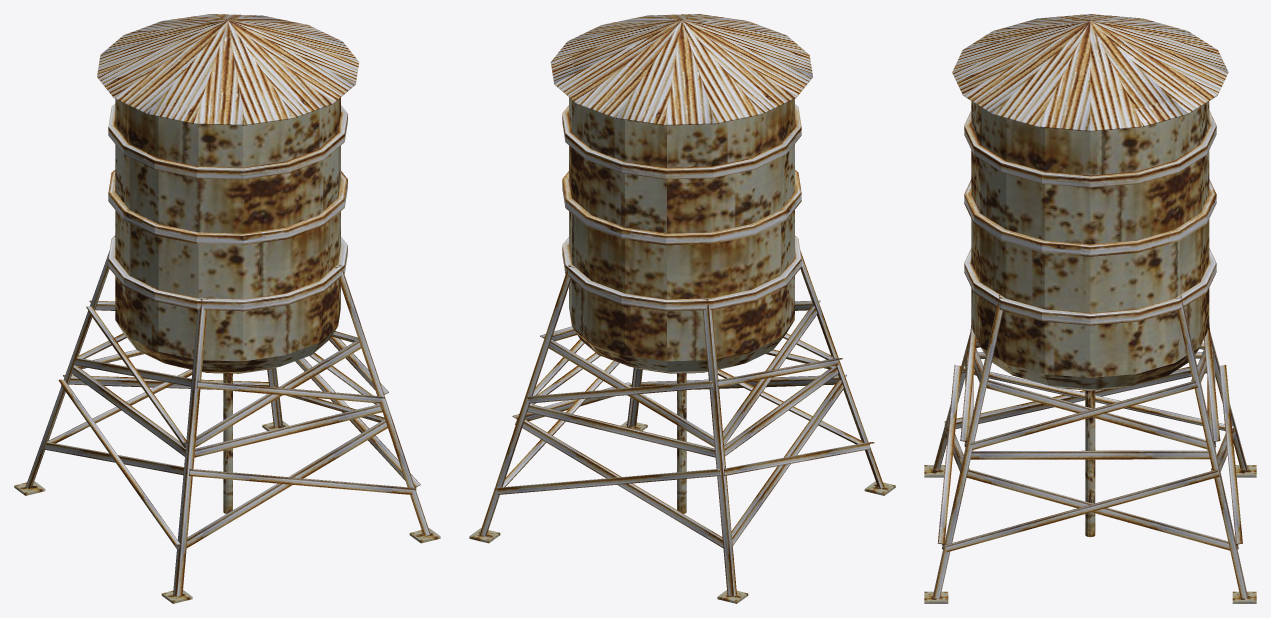
File: Tanque de agua.fbx
3 renders of one model, left to right at view 1: azimuth 30°, elevation 25°; view 2: azimuth 150°, elevation 25°; view 3: azimuth 270°, elevation 25°, orthographic. The views are drawn at different scales.
Parts seen in each view (by area): view 1: Tanque de Agua; view 2: Tanque de Agua; view 3: Tanque de Agua.
Part boxes in pixels (x1=…): Tanque de Agua: x1=14, y1=14, x2=440, y2=603; Tanque de Agua: x1=469, y1=14, x2=895, y2=603; Tanque de Agua: x1=924, y1=14, x2=1256, y2=603.
Bounding box in the file's own units: 271 × 479 × 279.
Materials: 1 (1 with a texture image).
